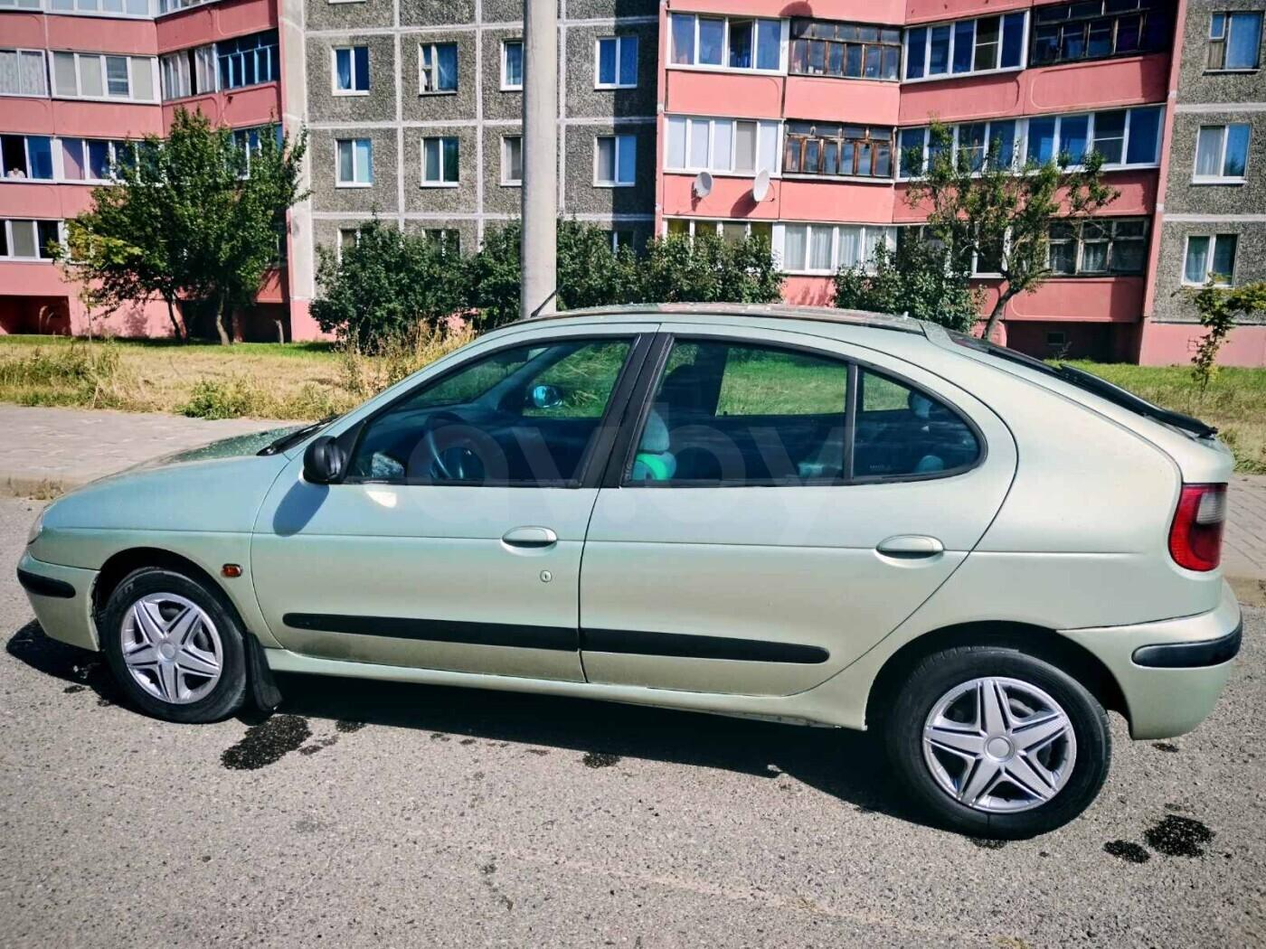Megane_1999-2003: (15, 289, 1248, 846)
